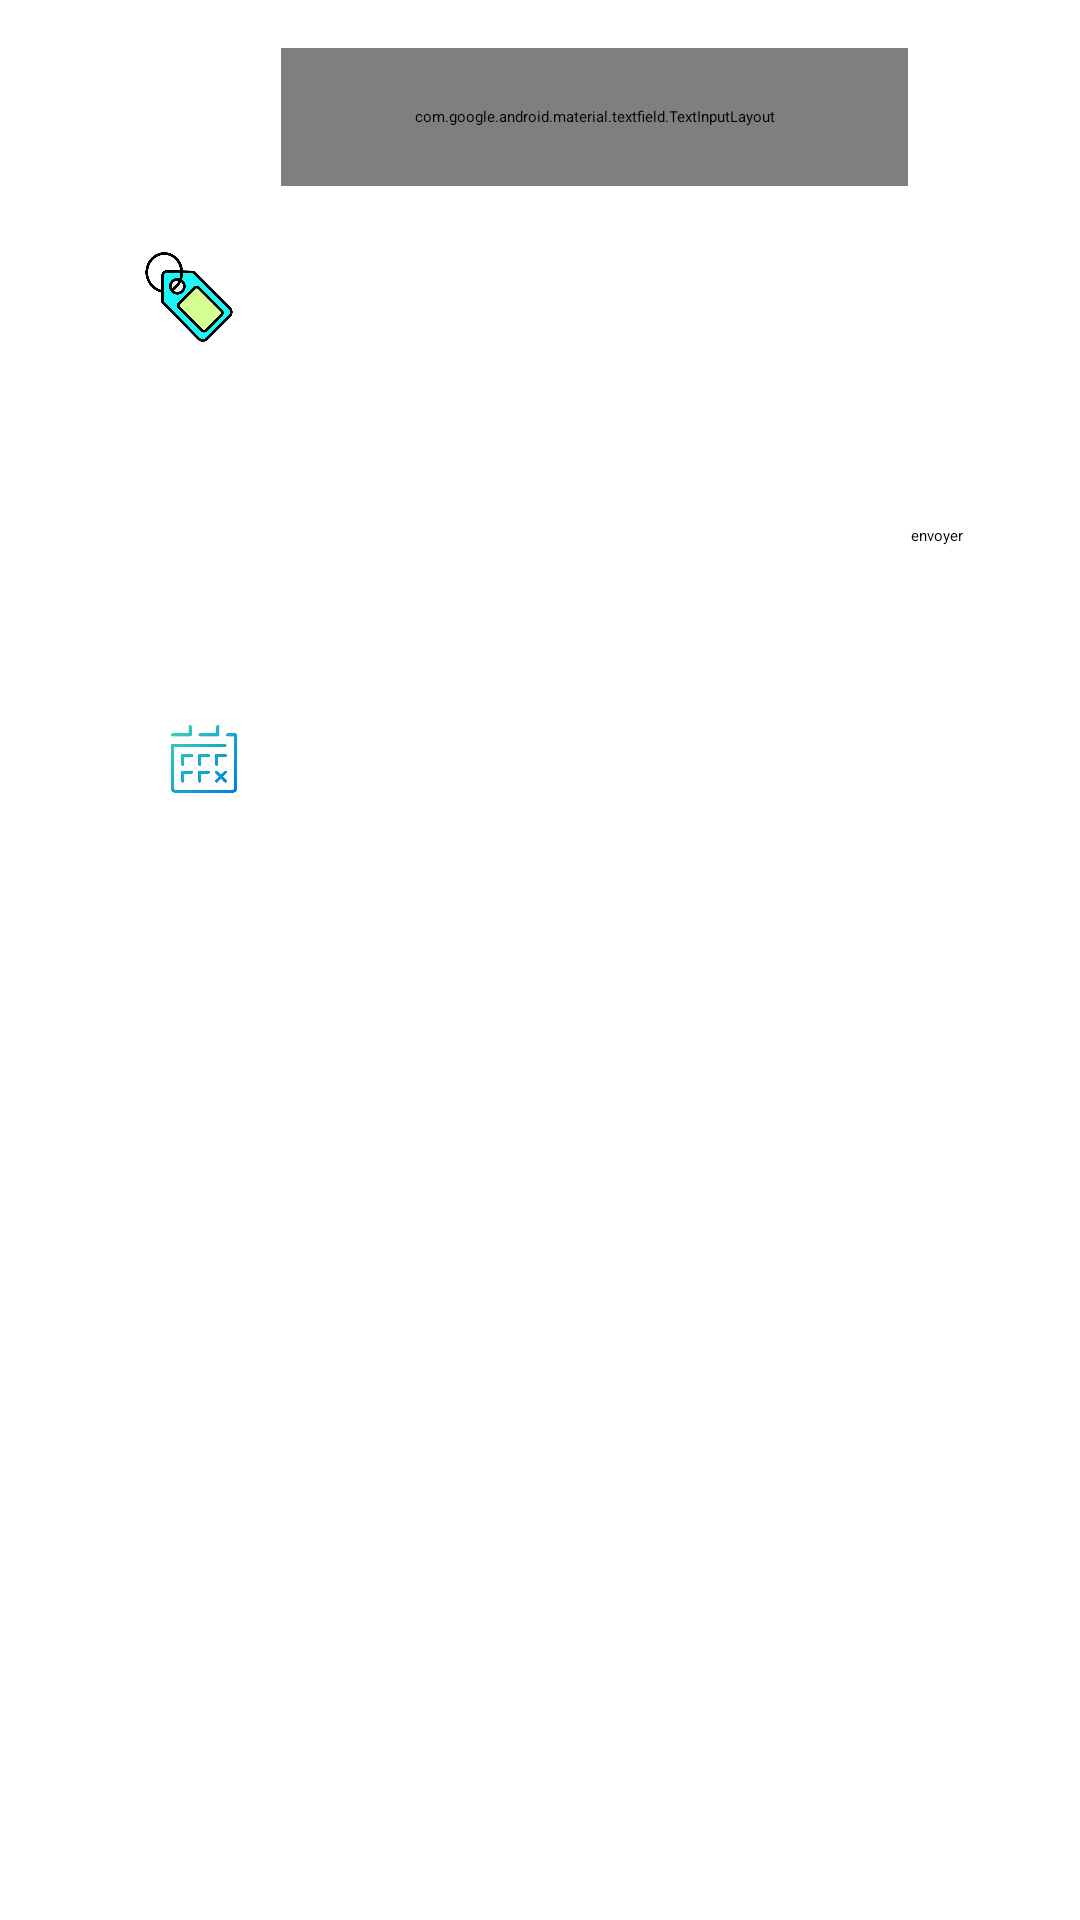

Where icons sit on this 1080 x 1920 app screen, as (x1, y1, x2, y2):
label price tag tags: (145, 252, 233, 342)
